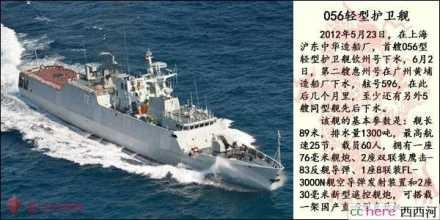warship: (10, 36, 291, 187)
